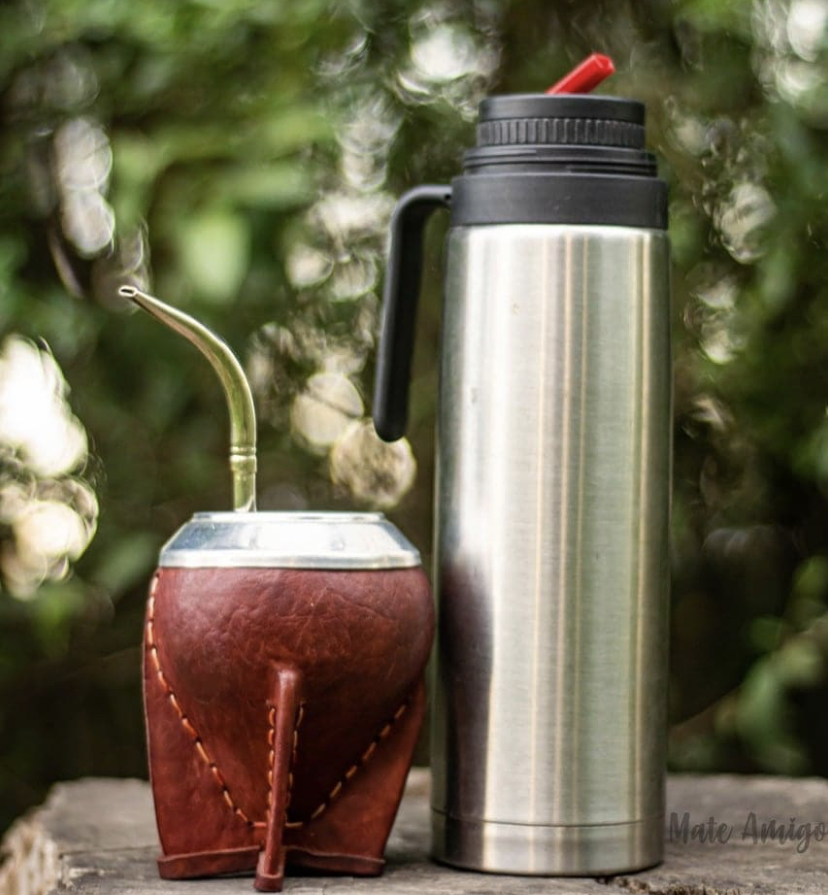calabaza: (144, 501, 442, 885)
mate: (104, 258, 441, 895)
